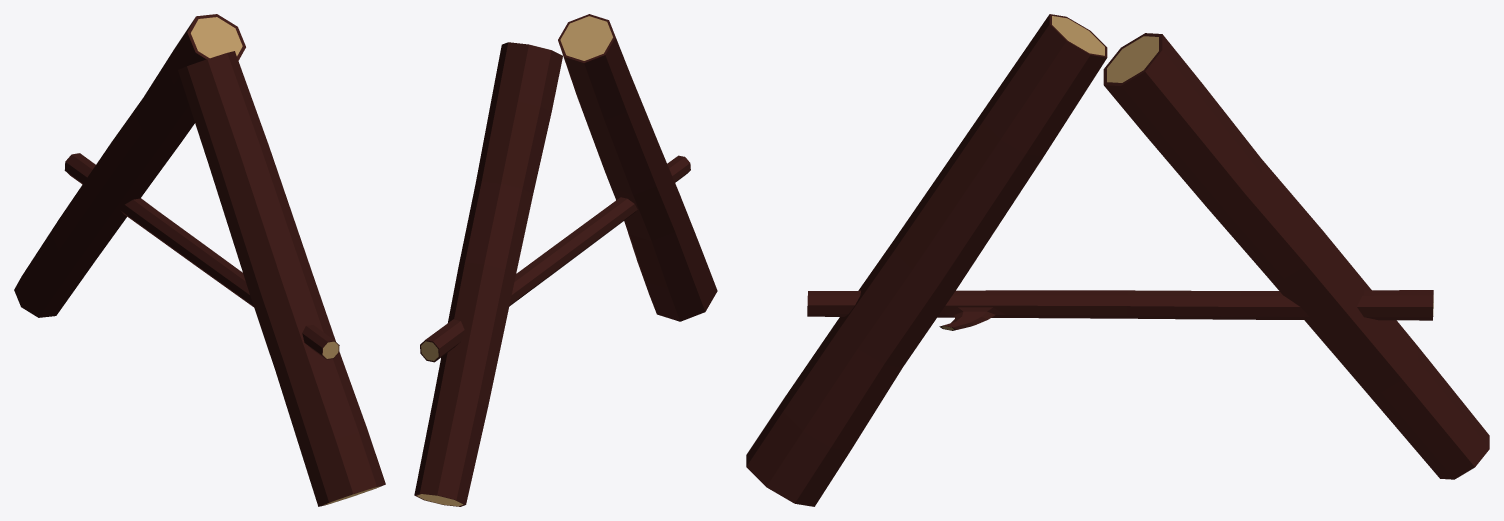
Rendered from SM_WoodFence_002.fbx.
3 views of the same model, side by side, from view 1: azimuth 30°, elevation 25°; view 2: azimuth 150°, elevation 25°; view 3: azimuth 270°, elevation 25° (orthographic). The views are drawn at different scales.
Parts seen in each view (by area): view 1: WoodenFence_02; view 2: WoodenFence_02; view 3: WoodenFence_02.
Part boxes in pixels (x1,y1,x2,y2): WoodenFence_02: (14,14,385,506); WoodenFence_02: (414,14,717,506); WoodenFence_02: (746,14,1489,506).
Size of the model in its own units: 24.35 by 98.54 by 142.
